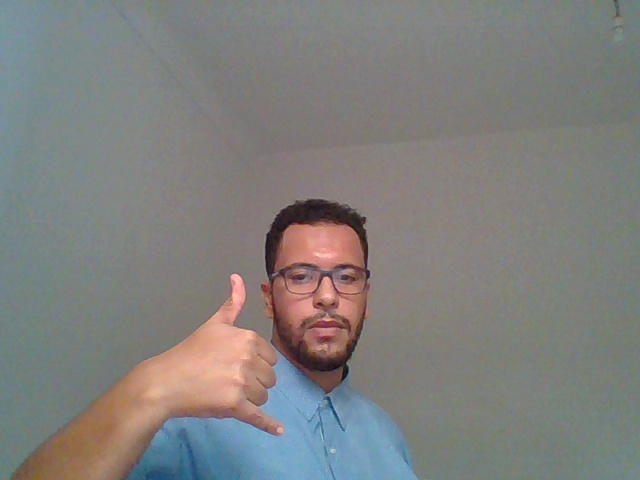callme: (88, 226, 288, 457)
